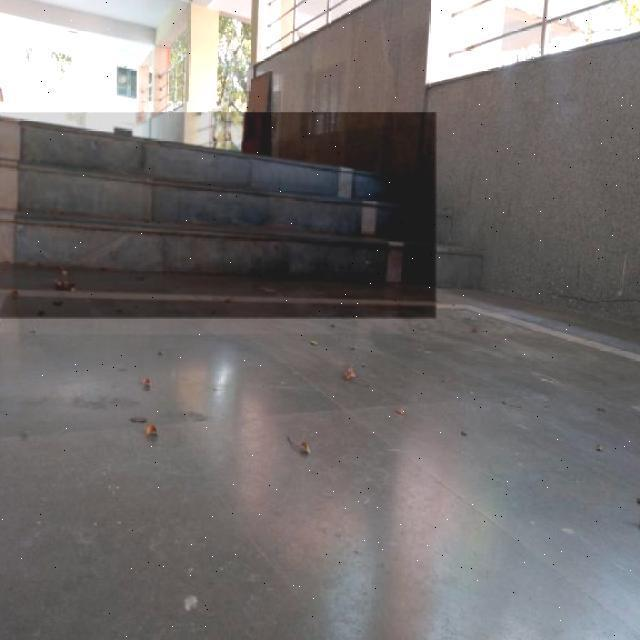stair: (0, 113, 438, 320)
